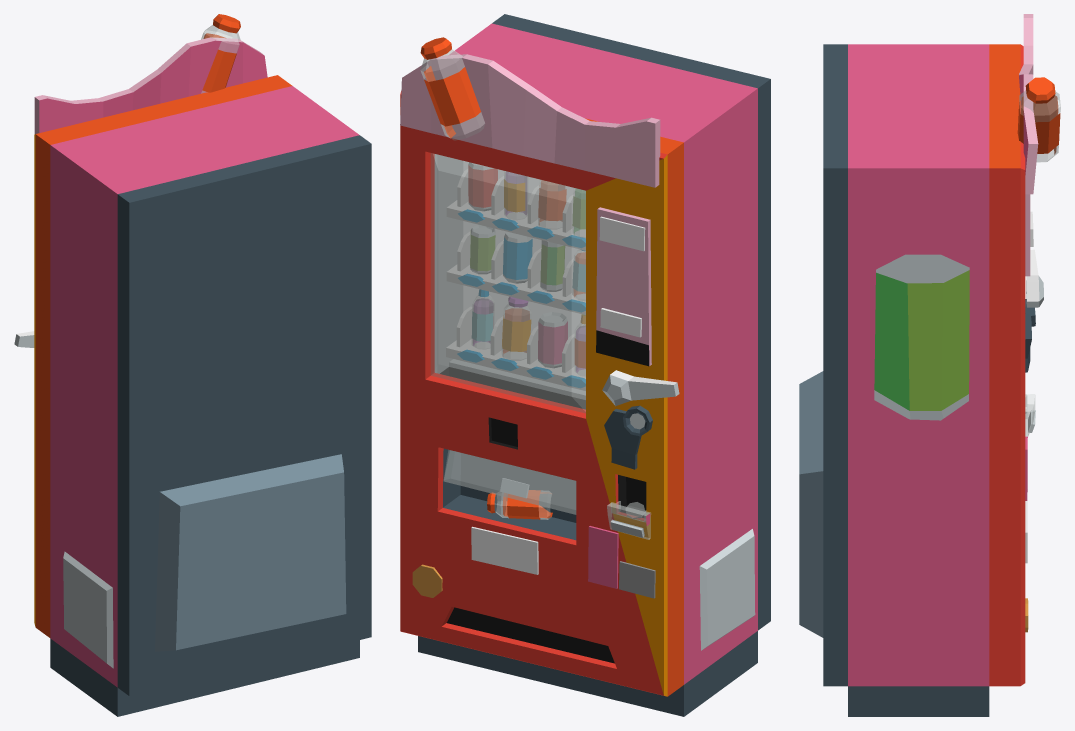
The model's file is Vending Machine.glb.
3 renders of one model, left to right at view 1: azimuth 30°, elevation 25°; view 2: azimuth 150°, elevation 25°; view 3: azimuth 270°, elevation 25°, orthographic. The views are drawn at different scales.
Visible parts, largest first — view 1: group1848869498; view 2: group1848869498; view 3: group1848869498.
Part boxes in pixels (x1,y1,x2,y2): group1848869498: [14, 14, 371, 716]; group1848869498: [400, 14, 770, 716]; group1848869498: [799, 14, 1060, 716].
Bounding box in the file's own units: 1.29 × 2.81 × 1.08.
